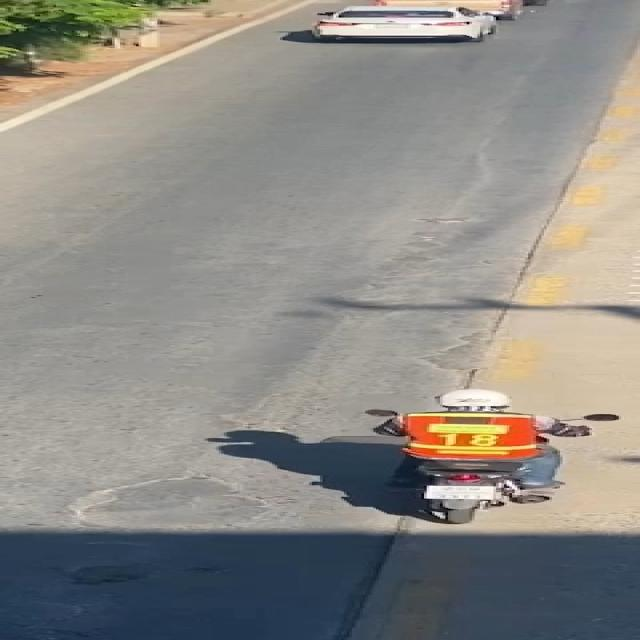car: (282, 5, 514, 41)
